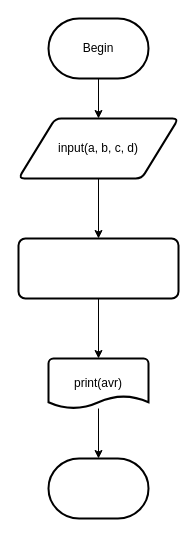
Image size: 196x536. Some labels were removed from this diagram. The shapes that lost their labels are listed below. From the top down, each one's box as (x1, y1, x2, y2) in pixels, then its label:
(17, 237, 179, 299): avr = (a + b+ c+ d) / 4
(47, 457, 149, 519): End
